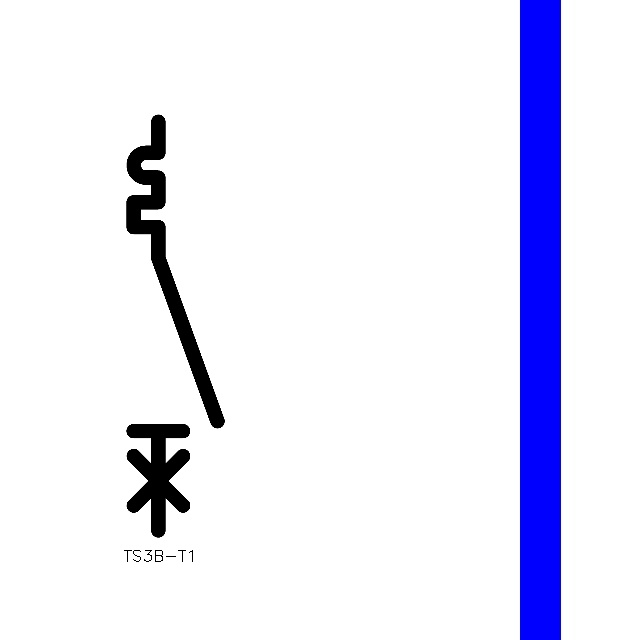interruptor_termomagnetico: (123, 111, 228, 541)
